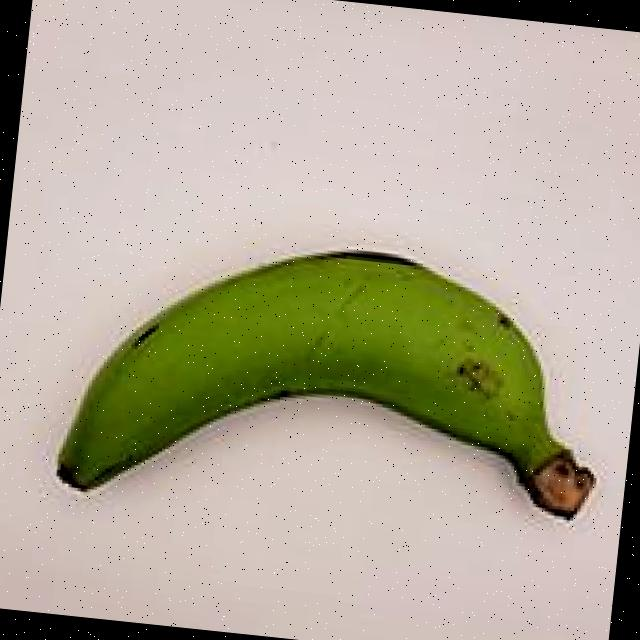Raw: (27, 187, 628, 577)
